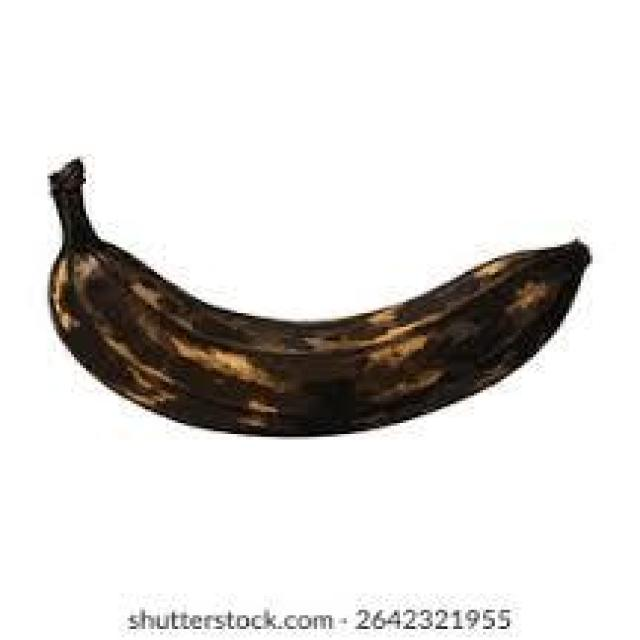Rotten: (22, 140, 602, 470)
